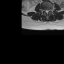CCS_normal: (46, 9, 47, 16)
LFS_severe_stenosis: (49, 7, 50, 12)
LLS_normal: (47, 8, 49, 14)
RFS_stenosis: (43, 8, 44, 12)
RLS_normal: (44, 8, 46, 13)
